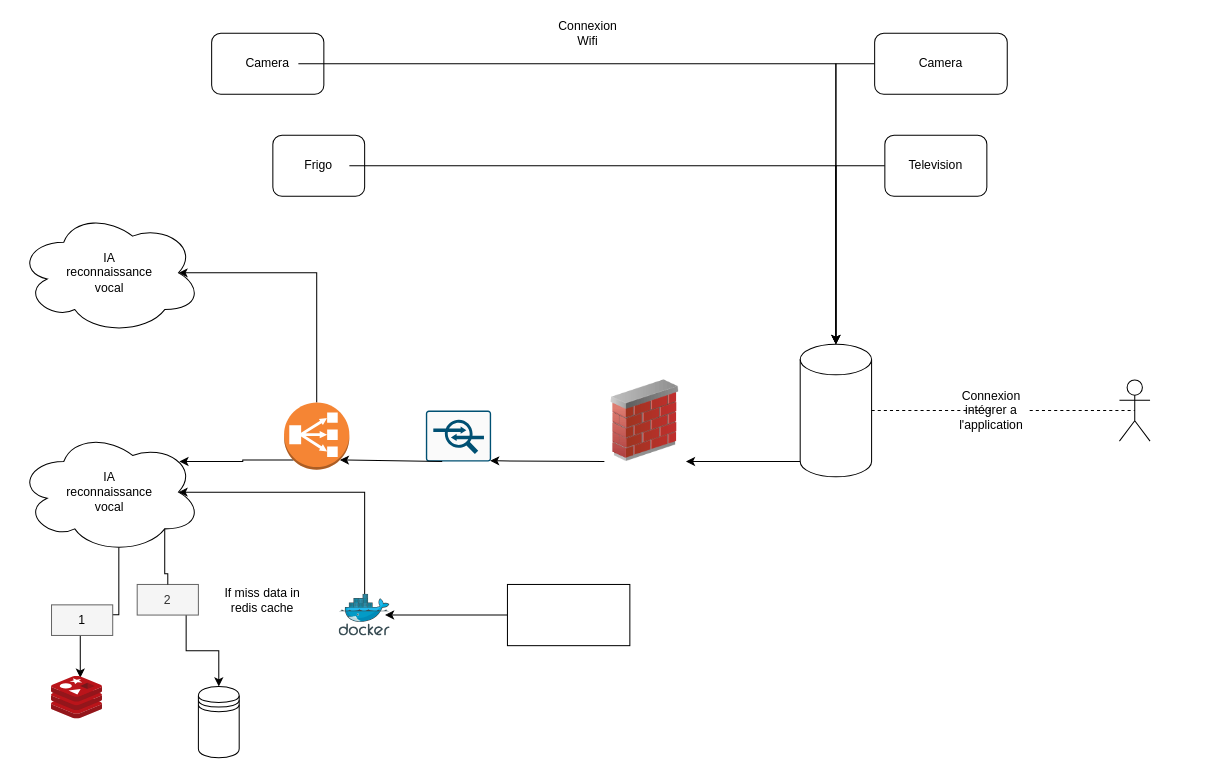
The diagram is 1209 pixels wide and 775 high, and some of its shapes have lost their labels. Here are the shapes that lost their labels. From the top down, the centre of each, then its label:
pixel 835 410: Glados
pixel 1134 410: Utilisateur a distance
pixel 568 614: Ansible
